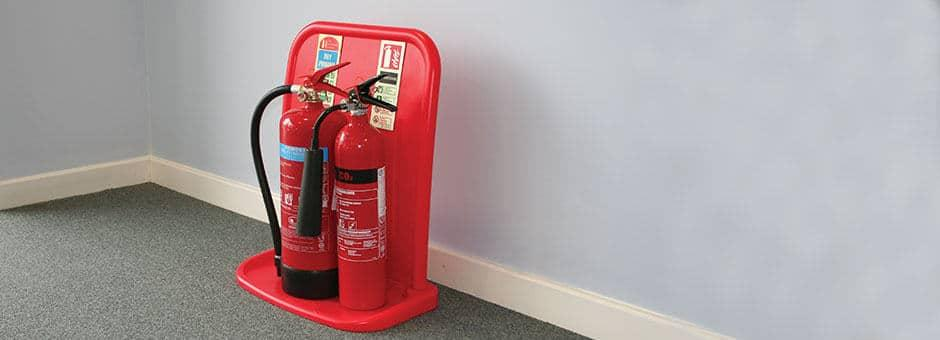floor-kept: (227, 12, 467, 331)
